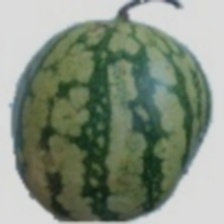watermelon: (32, 8, 198, 179)
